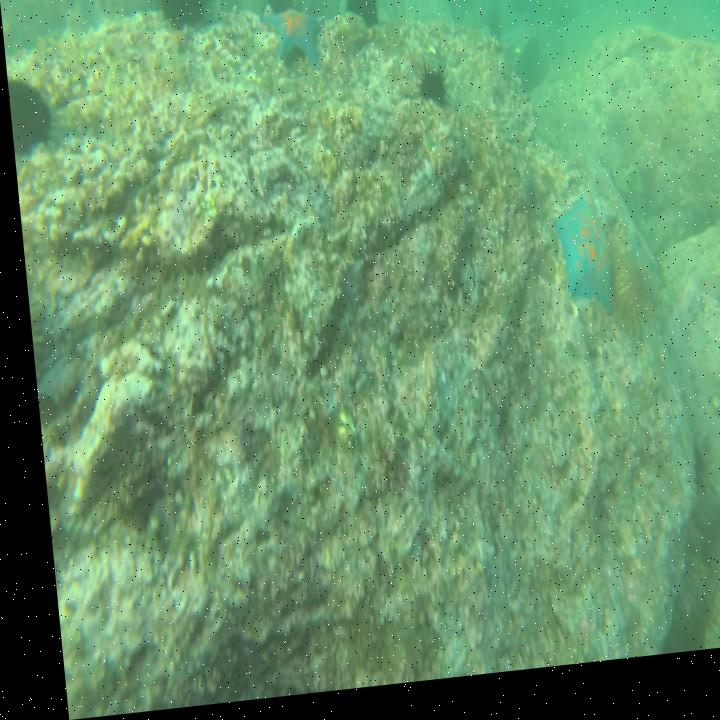echinus: (600, 264, 645, 349), (8, 73, 49, 149), (153, 0, 214, 38), (413, 67, 443, 111), (341, 0, 376, 33), (265, 0, 297, 19)
starfish: (541, 199, 614, 327), (274, 8, 323, 76)
